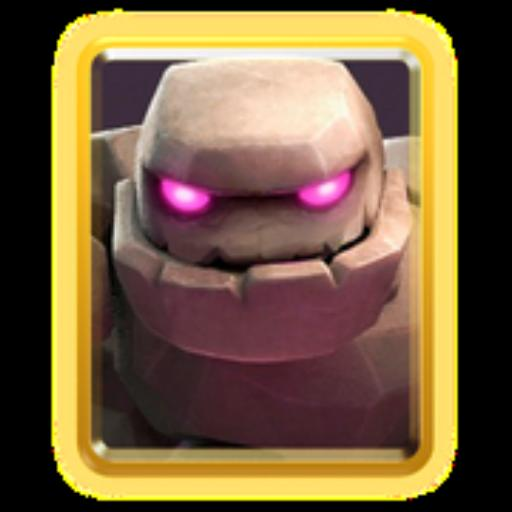golem: (80, 56, 424, 464)
